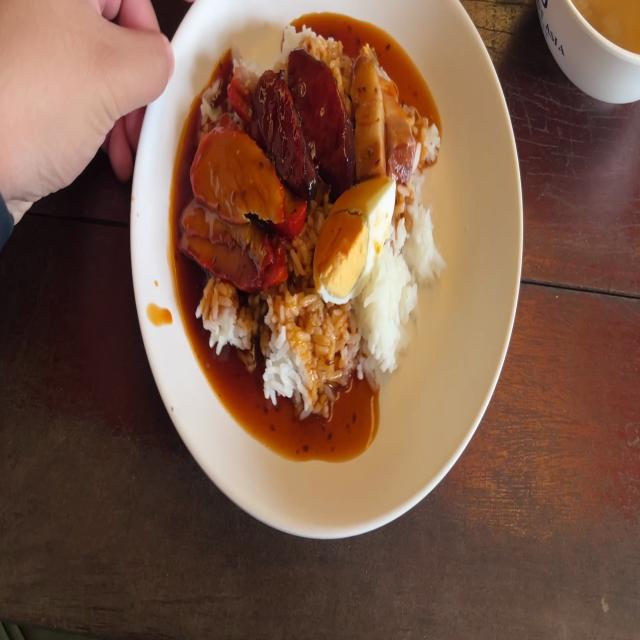red_pork_and_crispy_pork: (313, 170, 396, 300)
stir_fried_basil: (267, 45, 346, 177)
